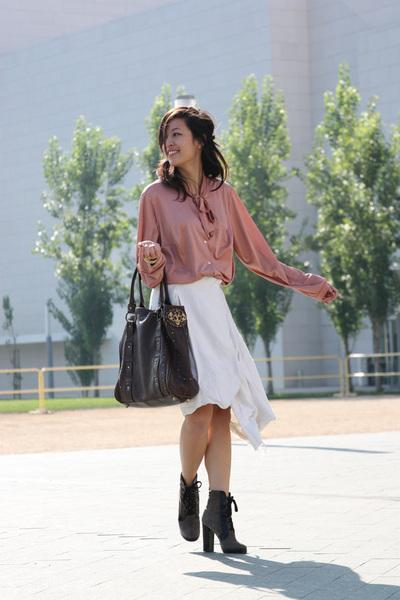bag: (114, 300, 198, 407)
shirt: (133, 182, 323, 296)
shoe: (178, 492, 247, 555)
skirt: (148, 277, 267, 451)
